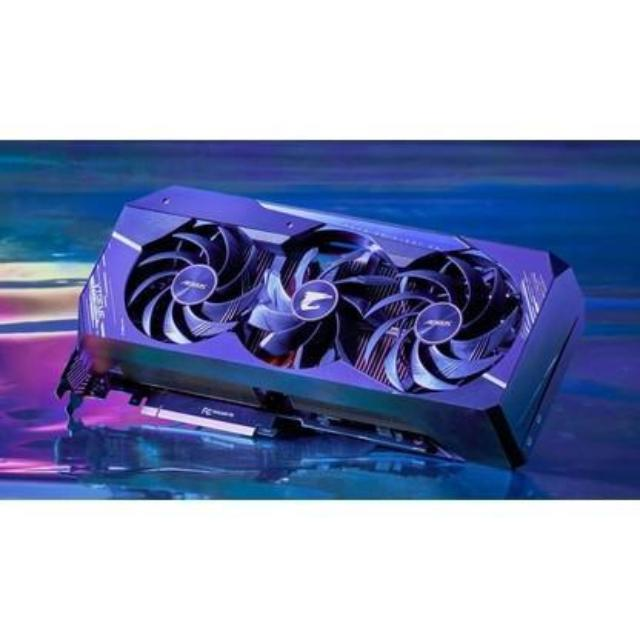GPU: (69, 182, 586, 476)
